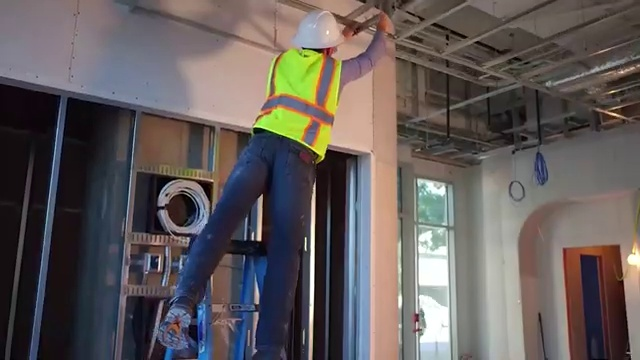helmet: (288, 8, 359, 42)
jacket: (259, 47, 355, 185)
